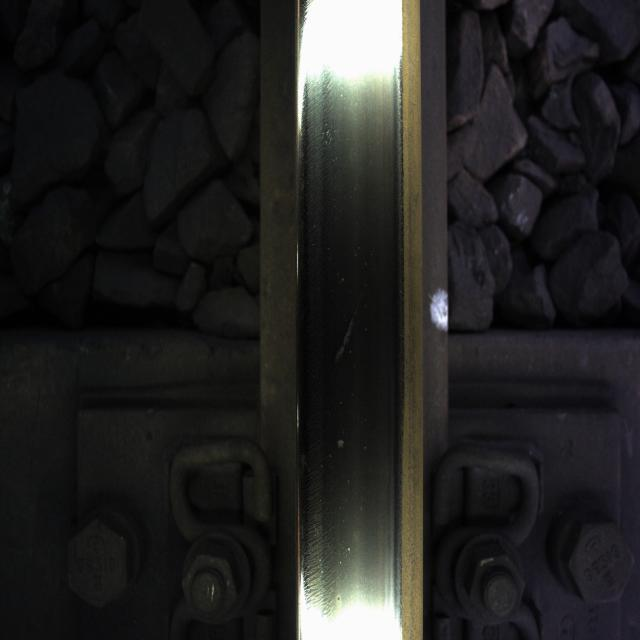break: (296, 35, 390, 569)
